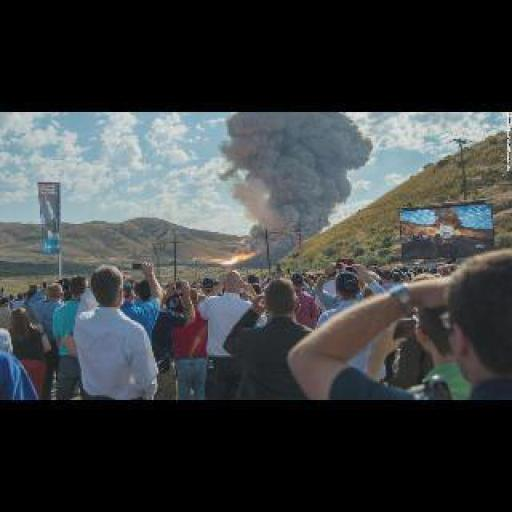smoke: (216, 107, 370, 243), (222, 252, 252, 262)
